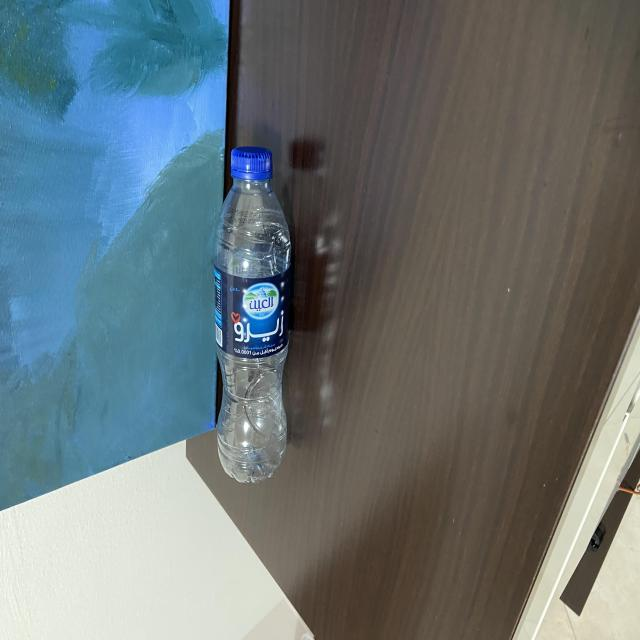plastic: (210, 140, 293, 484)
